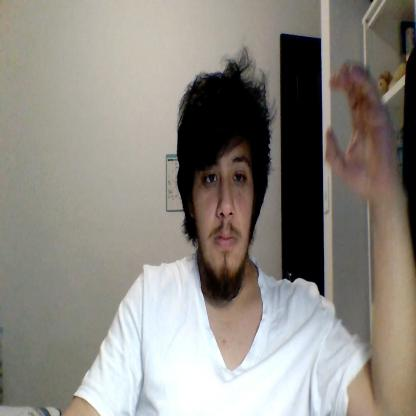C: (324, 59, 395, 193)
